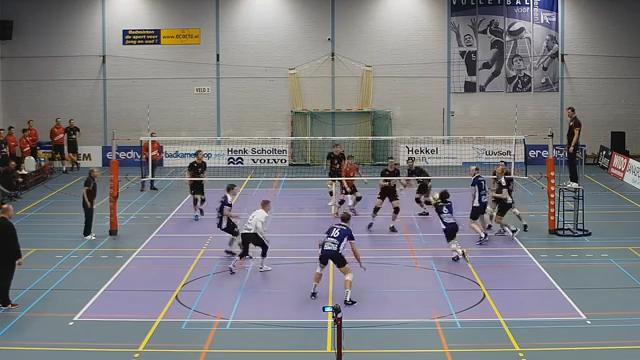Dig: (426, 187, 471, 267)
Player: (310, 213, 365, 305), (229, 200, 271, 273), (367, 158, 404, 232), (492, 166, 518, 236), (217, 184, 239, 255), (337, 155, 361, 215), (470, 166, 488, 244), (407, 159, 431, 215), (509, 179, 527, 231), (326, 143, 345, 178), (189, 180, 205, 220)
ball: (430, 191, 439, 203)
